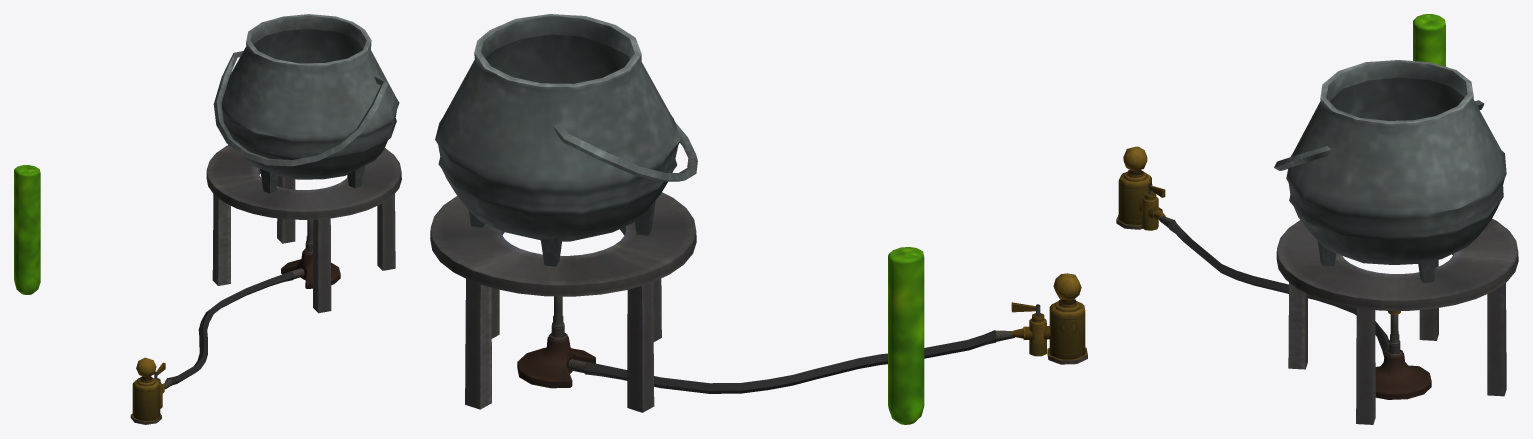
File: stove1.fbx
The picture shows the model from 3 angles, left to right: view 1: azimuth 30°, elevation 25°; view 2: azimuth 150°, elevation 25°; view 3: azimuth 270°, elevation 25°; orthographic projection. The views are drawn at different scales.
Parts seen in each view (by area): view 1: atlased_objects21.004, liquids.004, atlased_objects21.008, atlased_objects21.007; view 2: atlased_objects21.004, liquids.004, atlased_objects21.008, atlased_objects21.007; view 3: atlased_objects21.004, atlased_objects21.008, atlased_objects21.007, liquids.004.
Part boxes in pixels (box(x1,y1,x2,y2)): atlased_objects21.004: box(206, 14, 401, 313); liquids.004: box(14, 165, 40, 294); atlased_objects21.008: box(130, 357, 165, 424); atlased_objects21.007: box(164, 274, 285, 389); atlased_objects21.004: box(430, 14, 697, 412); liquids.004: box(888, 247, 924, 424); atlased_objects21.008: box(1011, 273, 1087, 364); atlased_objects21.007: box(598, 330, 1014, 393); atlased_objects21.004: box(1274, 60, 1518, 424); atlased_objects21.008: box(1116, 146, 1165, 230); atlased_objects21.007: box(1159, 216, 1389, 357); liquids.004: box(1413, 14, 1445, 66).
Size of the model in its own units: 0.6165 by 0.3851 by 0.4798.
